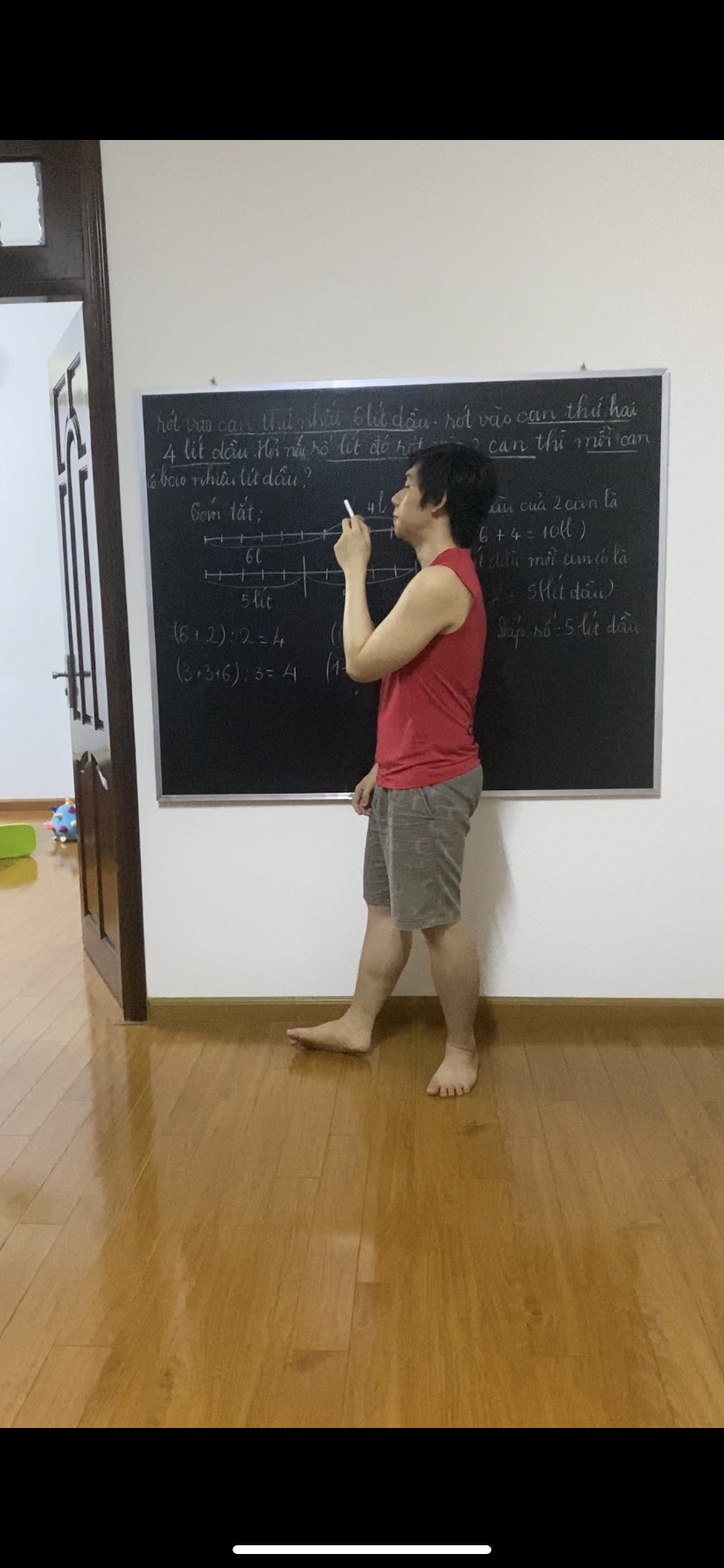cigarette: (340, 495, 356, 519)
person: (286, 446, 496, 1100)
